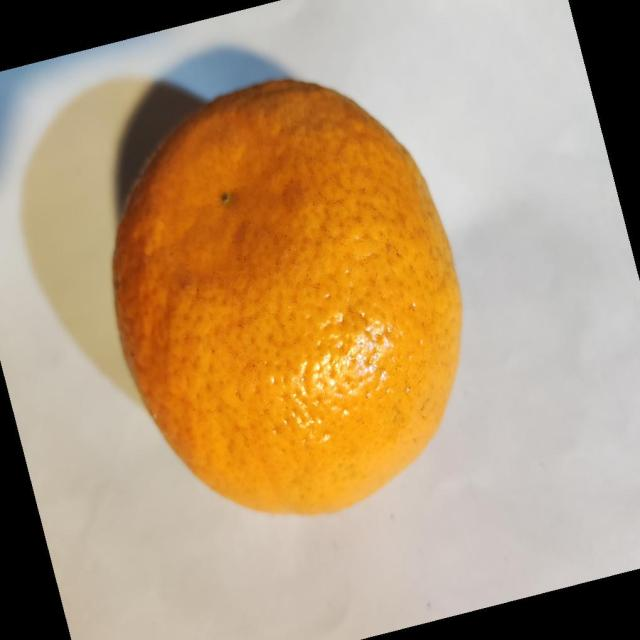fresh orange: (111, 78, 464, 516)
